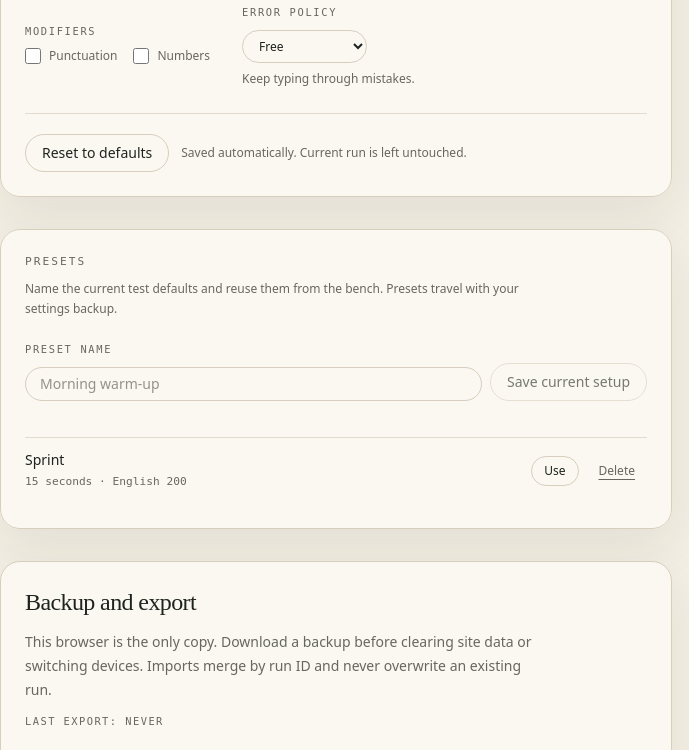
Test case: settings page › updates a preset when the name already exists
(page scrolled)
Type "sprint" into the field labelled "Preset name".
click(254, 384); type("sprint")  # box top-left (25, 367), bottom-right (482, 401)
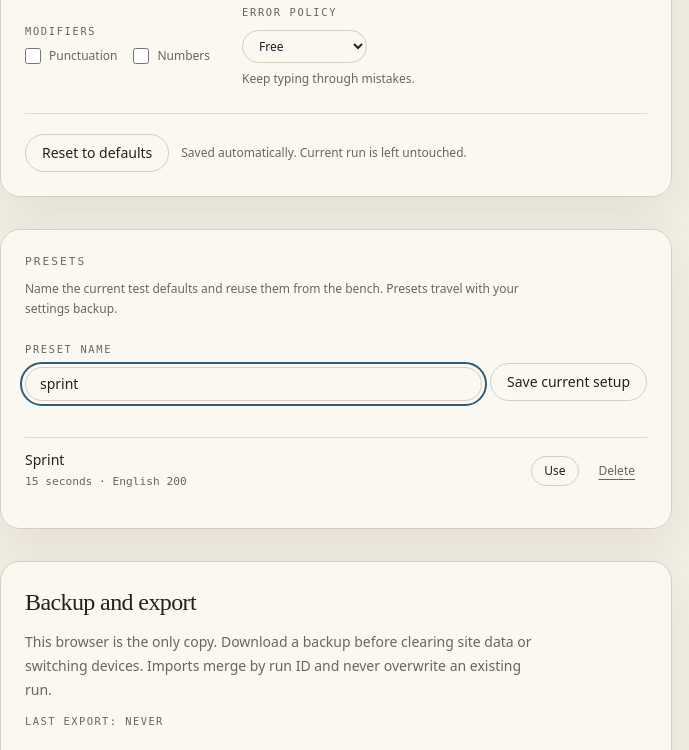
Click the button "Save current setup".
click(568, 382)  # box top-left (490, 363), bottom-right (647, 401)
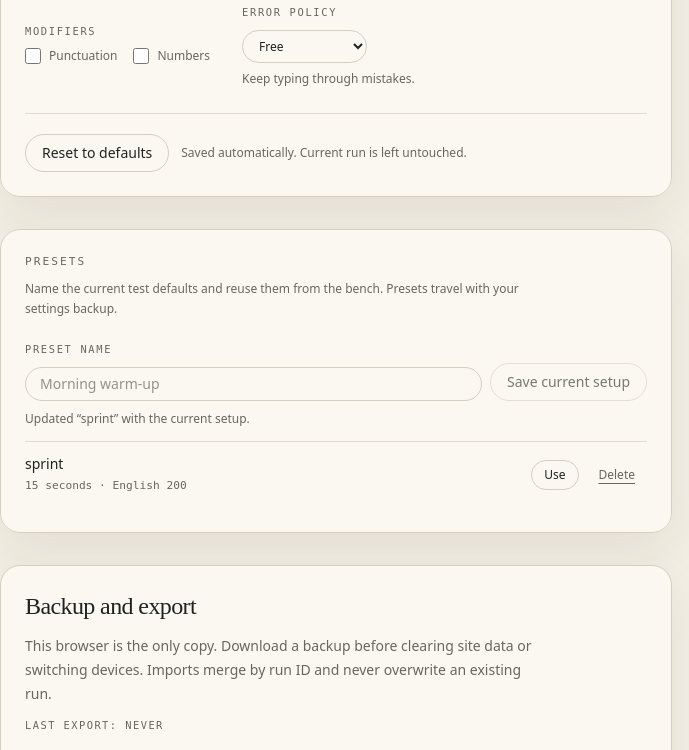
Expected: the text "Updated “sprint” with the current setup." is shown, top-left (25, 410), bottom-right (250, 427)
